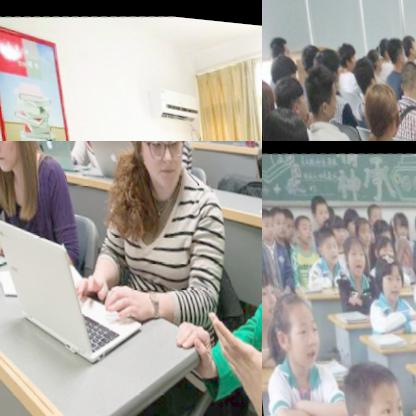head: (340, 352, 409, 416), (270, 285, 323, 367), (127, 141, 195, 196), (361, 75, 403, 141), (300, 58, 338, 126), (270, 71, 312, 129), (262, 100, 319, 141), (374, 247, 406, 300), (311, 42, 343, 92), (268, 51, 299, 95), (0, 141, 36, 177), (350, 49, 378, 89), (296, 33, 322, 76), (314, 223, 340, 266), (341, 230, 365, 273), (395, 51, 416, 99), (266, 29, 292, 66), (291, 210, 315, 244), (308, 192, 332, 225), (337, 34, 357, 72), (279, 202, 298, 241), (267, 201, 288, 236), (384, 31, 405, 65), (389, 204, 409, 238), (342, 201, 363, 233), (364, 41, 383, 76), (372, 231, 394, 261), (371, 214, 392, 242), (354, 213, 372, 245), (327, 210, 346, 240), (376, 28, 393, 59), (399, 26, 416, 57), (364, 196, 383, 222), (262, 204, 274, 240)
